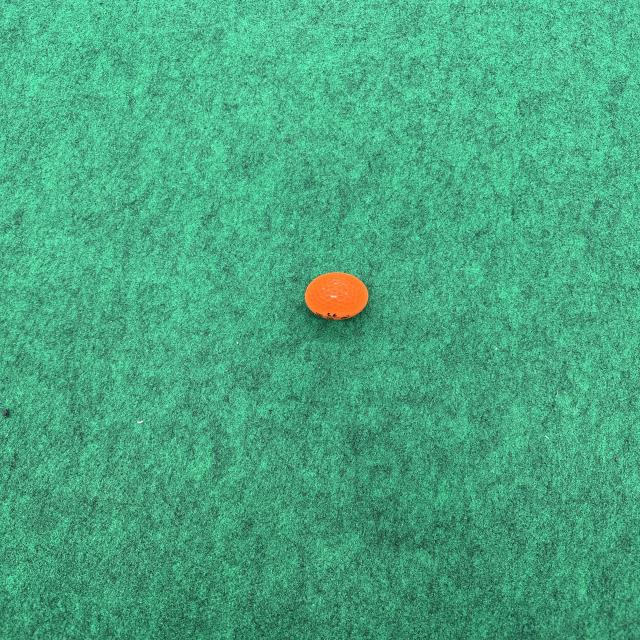ball: (302, 272, 370, 322)
